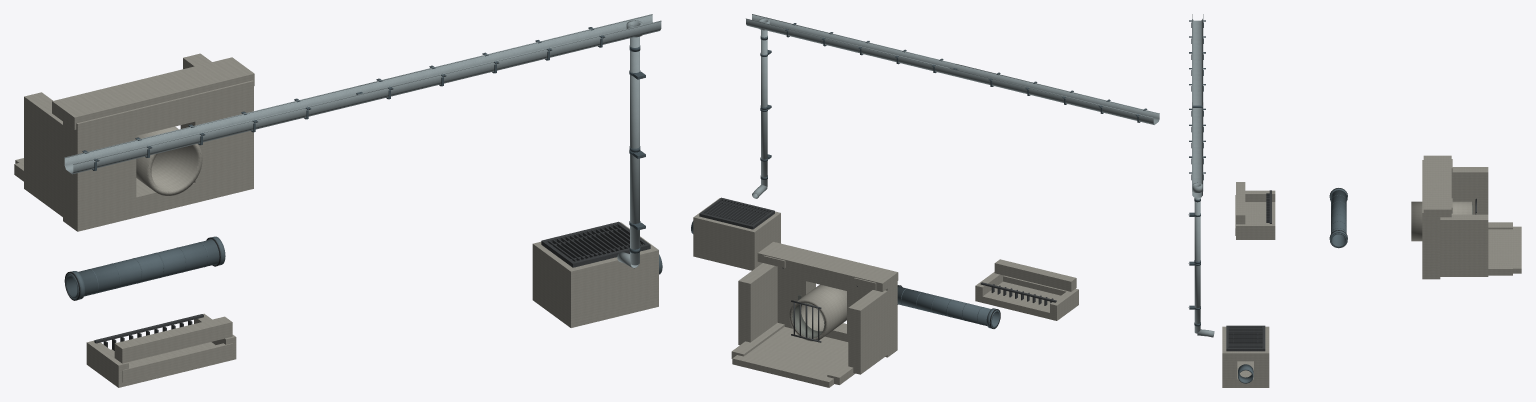
3 views of the same model, side by side, from view 1: azimuth 30°, elevation 25°; view 2: azimuth 150°, elevation 25°; view 3: azimuth 270°, elevation 25° (orthographic). The views are drawn at different scales.
Parts seen in each view (by area): view 1: VIS_Headwall_PouredConcrete_Concrete, VIS_FoldedGutter_Shell_GalvanizedSteel, VIS_PrecastBasin_Concrete_Concrete, VIS_CurbInlet_CastConcrete_Concrete, VIS_HollowStormPipe_Barrel_StormPolymer, VIS_Culvert_CastPipe_Concrete, VIS_Downspout_HollowTube_GalvanizedSteel, VIS_Gutter_RolledRim_GalvanizedSteel, VIS_Grate_LoadBearingBars_CastIron, VIS_CastIron_GrateFrame_CastIron, VIS_Gutter_Hangers_GraphiteCoating; view 2: VIS_Headwall_PouredConcrete_Concrete, VIS_FoldedGutter_Shell_GalvanizedSteel, VIS_CurbInlet_CastConcrete_Concrete, VIS_PrecastBasin_Concrete_Concrete, VIS_Culvert_CastPipe_Concrete, VIS_HollowStormPipe_Barrel_StormPolymer, VIS_Gutter_RolledRim_GalvanizedSteel, VIS_Downspout_HollowTube_GalvanizedSteel, VIS_Grate_LoadBearingBars_CastIron, VIS_CastIron_GrateFrame_CastIron; view 3: VIS_Headwall_PouredConcrete_Concrete, VIS_CurbInlet_CastConcrete_Concrete, VIS_PrecastBasin_Concrete_Concrete, VIS_FoldedGutter_Shell_GalvanizedSteel, VIS_Downspout_HollowTube_GalvanizedSteel, VIS_HollowStormPipe_Barrel_StormPolymer, VIS_Culvert_CastPipe_Concrete, VIS_Grate_LoadBearingBars_CastIron, VIS_CastIron_GrateFrame_CastIron, VIS_Gutter_RolledRim_GalvanizedSteel.
Boxes of the visible parts, left/top/right/bottom form: VIS_Headwall_PouredConcrete_Concrete: left=14, top=53, right=254, bottom=231; VIS_FoldedGutter_Shell_GalvanizedSteel: left=64, top=15, right=661, bottom=174; VIS_PrecastBasin_Concrete_Concrete: left=532, top=222, right=658, bottom=327; VIS_CurbInlet_CastConcrete_Concrete: left=86, top=313, right=236, bottom=387; VIS_HollowStormPipe_Barrel_StormPolymer: left=65, top=239, right=219, bottom=298; VIS_Culvert_CastPipe_Concrete: left=136, top=126, right=202, bottom=195; VIS_Downspout_HollowTube_GalvanizedSteel: left=630, top=36, right=639, bottom=265; VIS_Gutter_RolledRim_GalvanizedSteel: left=64, top=14, right=661, bottom=164; VIS_Grate_LoadBearingBars_CastIron: left=548, top=224, right=641, bottom=261; VIS_CastIron_GrateFrame_CastIron: left=541, top=221, right=650, bottom=267; VIS_Gutter_Hangers_GraphiteCoating: left=82, top=27, right=605, bottom=170; VIS_Headwall_PouredConcrete_Concrete: left=731, top=242, right=898, bottom=387; VIS_FoldedGutter_Shell_GalvanizedSteel: left=746, top=14, right=1159, bottom=124; VIS_CurbInlet_CastConcrete_Concrete: left=975, top=259, right=1078, bottom=320; VIS_PrecastBasin_Concrete_Concrete: left=693, top=198, right=780, bottom=270; VIS_Culvert_CastPipe_Concrete: left=789, top=284, right=846, bottom=341; VIS_HollowStormPipe_Barrel_StormPolymer: left=897, top=286, right=999, bottom=327; VIS_Gutter_RolledRim_GalvanizedSteel: left=746, top=14, right=1159, bottom=118; VIS_Downspout_HollowTube_GalvanizedSteel: left=761, top=30, right=767, bottom=186; VIS_Grate_LoadBearingBars_CastIron: left=705, top=199, right=769, bottom=224; VIS_CastIron_GrateFrame_CastIron: left=699, top=197, right=774, bottom=229; VIS_Headwall_PouredConcrete_Concrete: left=1422, top=155, right=1521, bottom=279; VIS_CurbInlet_CastConcrete_Concrete: left=1235, top=182, right=1275, bottom=239; VIS_PrecastBasin_Concrete_Concrete: left=1222, top=326, right=1269, bottom=387; VIS_FoldedGutter_Shell_GalvanizedSteel: left=1192, top=19, right=1202, bottom=197; VIS_Downspout_HollowTube_GalvanizedSteel: left=1194, top=197, right=1200, bottom=333; VIS_HollowStormPipe_Barrel_StormPolymer: left=1331, top=190, right=1346, bottom=247; VIS_Culvert_CastPipe_Concrete: left=1411, top=201, right=1471, bottom=241; VIS_Grate_LoadBearingBars_CastIron: left=1228, top=327, right=1263, bottom=347; VIS_CastIron_GrateFrame_CastIron: left=1226, top=325, right=1265, bottom=351; VIS_Gutter_RolledRim_GalvanizedSteel: left=1192, top=14, right=1203, bottom=190.
Bounding box in the file's own units: 8.52 × 4.02 × 6.37.
Materials: 7 (7 with a texture image).
